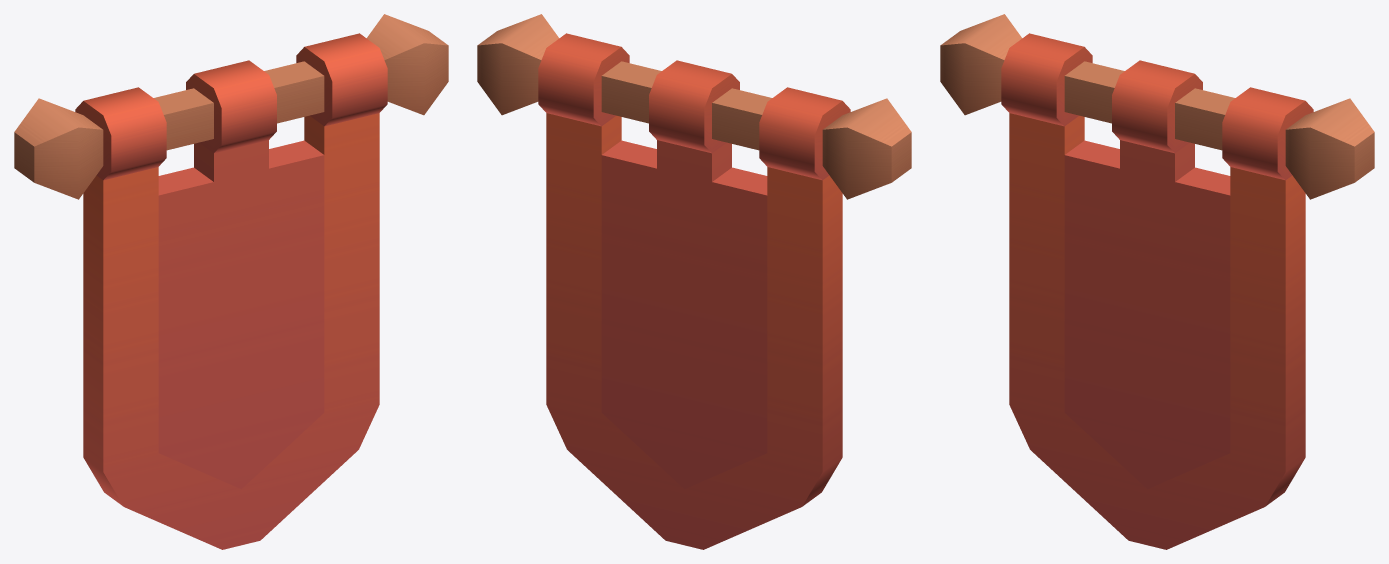
File: banner.fbx
3 renders of one model, left to right at view 1: azimuth 30°, elevation 25°; view 2: azimuth 150°, elevation 25°; view 3: azimuth 330°, elevation 25°, orthographic.
Parts seen in each view (by area): view 1: banner; view 2: banner; view 3: banner.
Part boxes in pixels (left/top/right/bottom): banner: left=14, top=14, right=448, bottom=549; banner: left=477, top=14, right=911, bottom=549; banner: left=940, top=14, right=1374, bottom=549.
Size of the model in its own units: 60 by 64.65 by 10.
